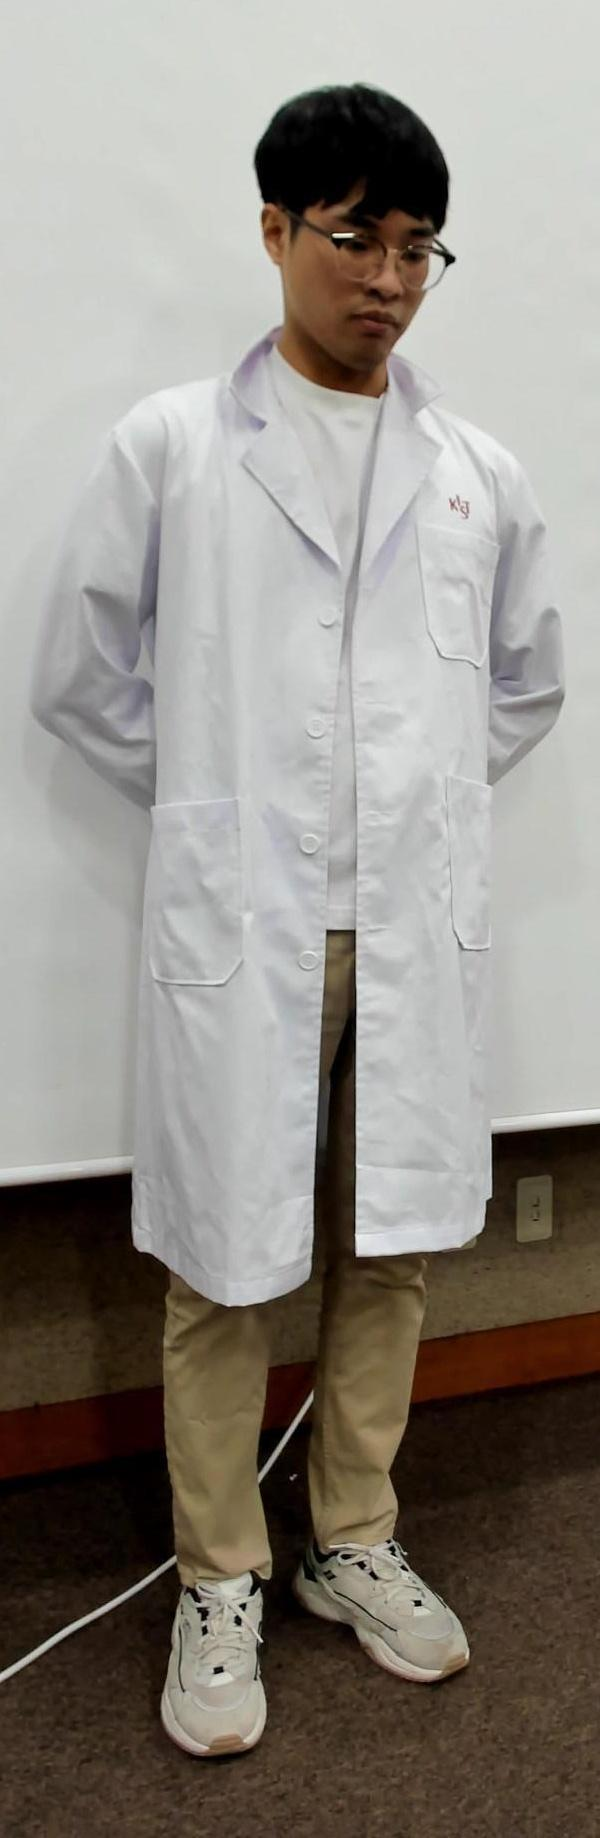lab_coat: (77, 367, 536, 1259)
